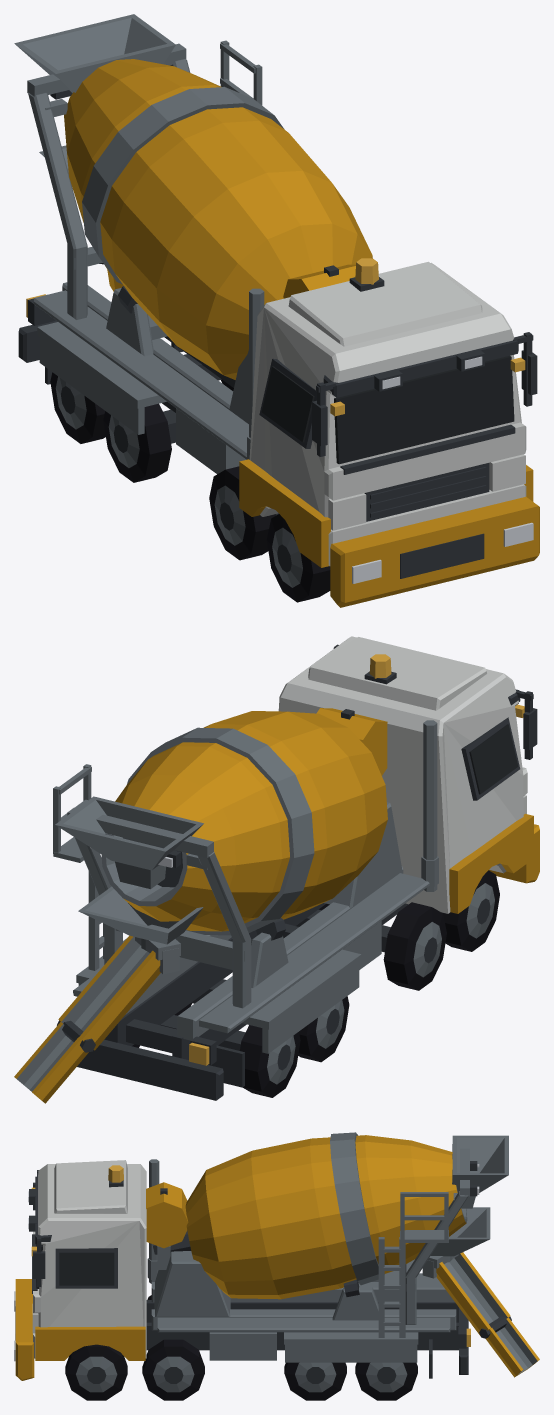
The model's file is concrete-mixer-truck.glb.
3 renders of one model, top to bottom at view 1: azimuth 30°, elevation 25°; view 2: azimuth 150°, elevation 25°; view 3: azimuth 270°, elevation 25°, orthographic. The views are drawn at different scales.
Parts seen in each view (by area): view 1: body, drum-band-0; view 2: body, drum-band-0; view 3: body, drum-band-0.
Part boxes in pixels (x1,y1,x2,y2): body: (14,14,539,607); drum-band-0: (64,59,372,379); body: (14,636,539,1103); drum-band-0: (101,711,387,935); body: (14,1135,539,1400); drum-band-0: (185,1132,467,1299).
Size of the model in its own units: 2.73 by 4.17 by 8.6.
